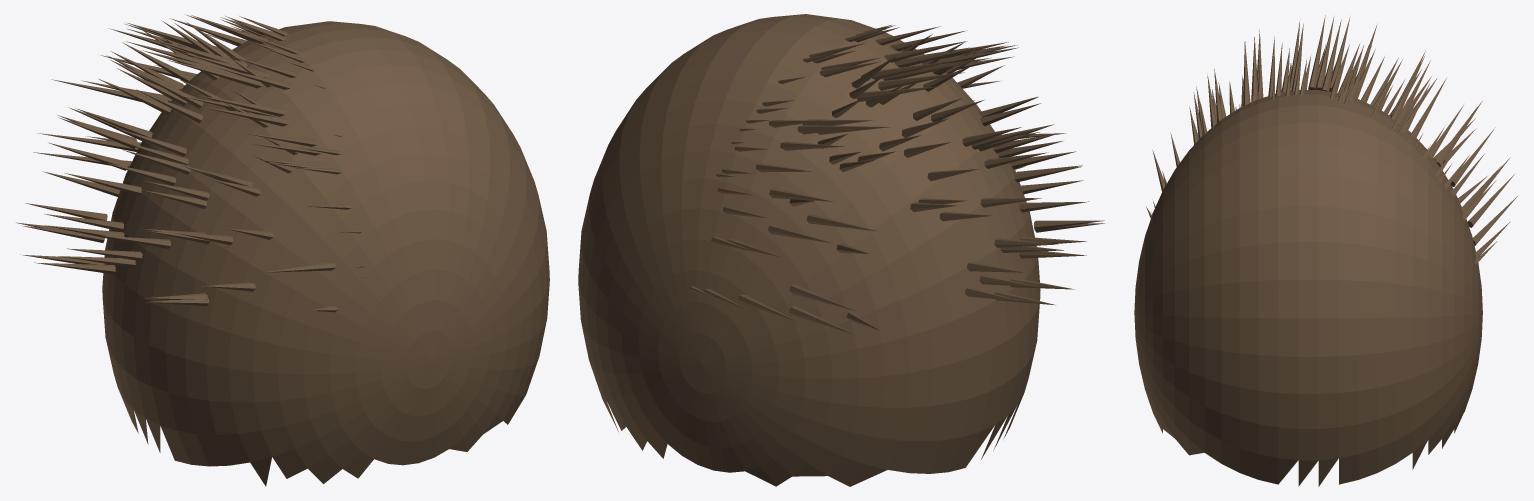
The model's file is side_part.glb.
3 views of the same model, side by side, from view 1: azimuth 30°, elevation 25°; view 2: azimuth 150°, elevation 25°; view 3: azimuth 270°, elevation 25° (orthographic). The views are drawn at different scales.
Parts seen in each view (by area): view 1: part_000; view 2: part_000; view 3: part_000.
Boxes of the visible parts, left/top/right/bottom form: part_000: left=102, top=21, right=549, bottom=486; part_000: left=578, top=14, right=1040, bottom=486; part_000: left=1134, top=90, right=1482, bottom=486.
Size of the model in its own units: 0.2504 by 0.2022 by 0.21.
